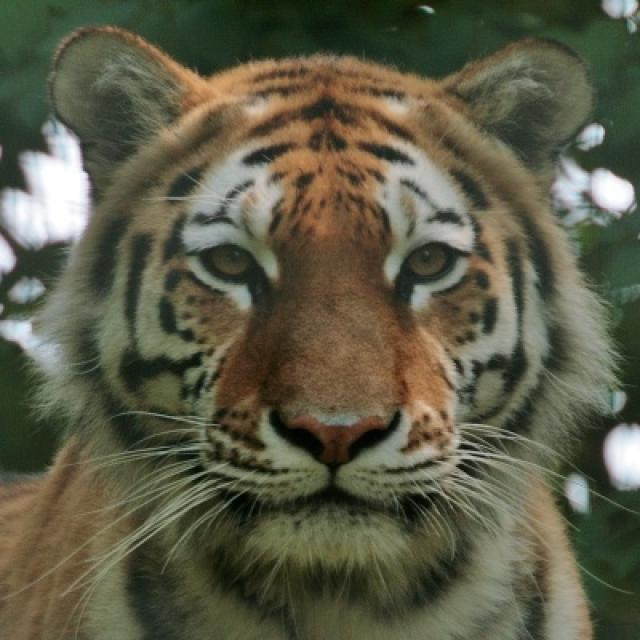Tiger: (64, 34, 580, 574)
